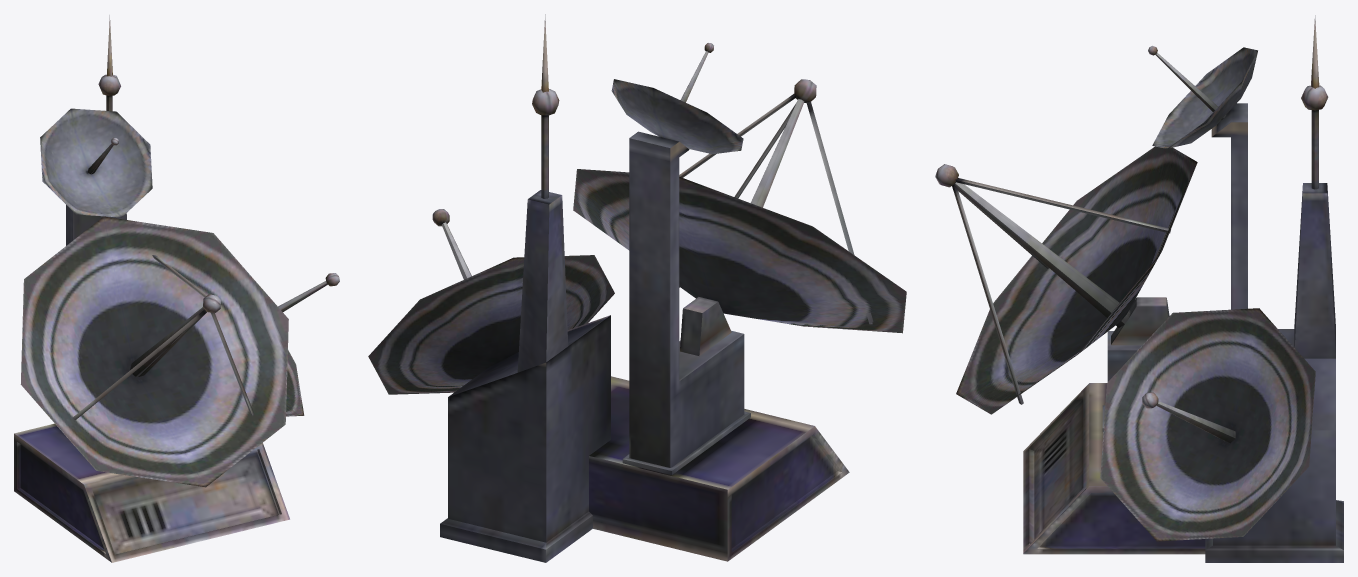
Rendered from zc_lekesigang_tianxian01.FBX.
3 views of the same model, side by side, from view 1: azimuth 30°, elevation 25°; view 2: azimuth 150°, elevation 25°; view 3: azimuth 270°, elevation 25° (orthographic). The views are drawn at different scales.
Visible parts, largest first — view 1: zc_lekesigang_tianxian01; view 2: zc_lekesigang_tianxian01; view 3: zc_lekesigang_tianxian01.
Part boxes in pixels (x1,y1,x2,y2): zc_lekesigang_tianxian01: (14, 15, 339, 562); zc_lekesigang_tianxian01: (368, 14, 906, 562); zc_lekesigang_tianxian01: (935, 15, 1343, 562).
Size of the model in its own units: 359 by 422 by 308.
